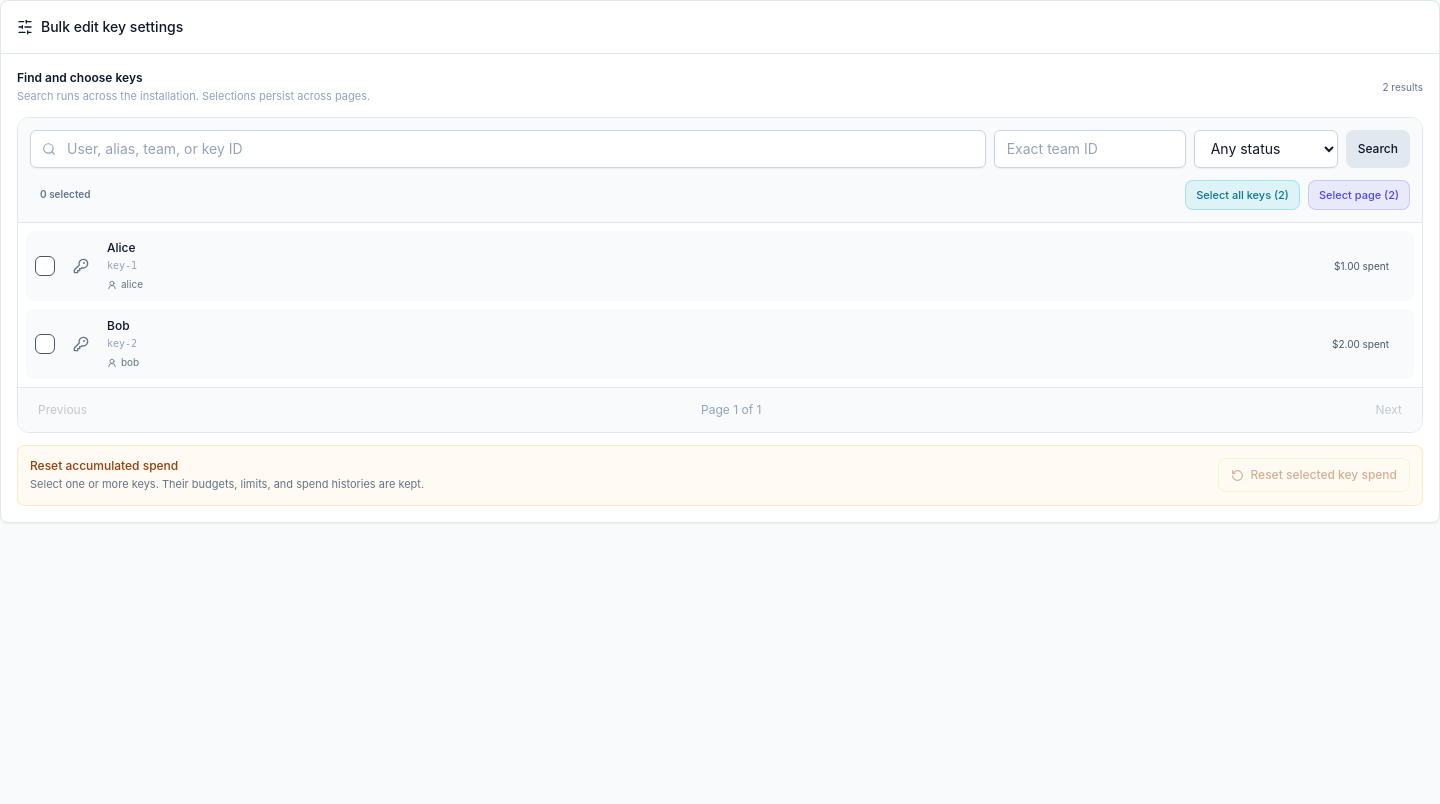
Test: BulkKeyEditor › keeps failed keys selected for retry and export
This screenshot has width=1440, height=804.
Click the button "Select all keys (2)" at (1242, 195), box [1185,180,1300,210]
(page scrolled)
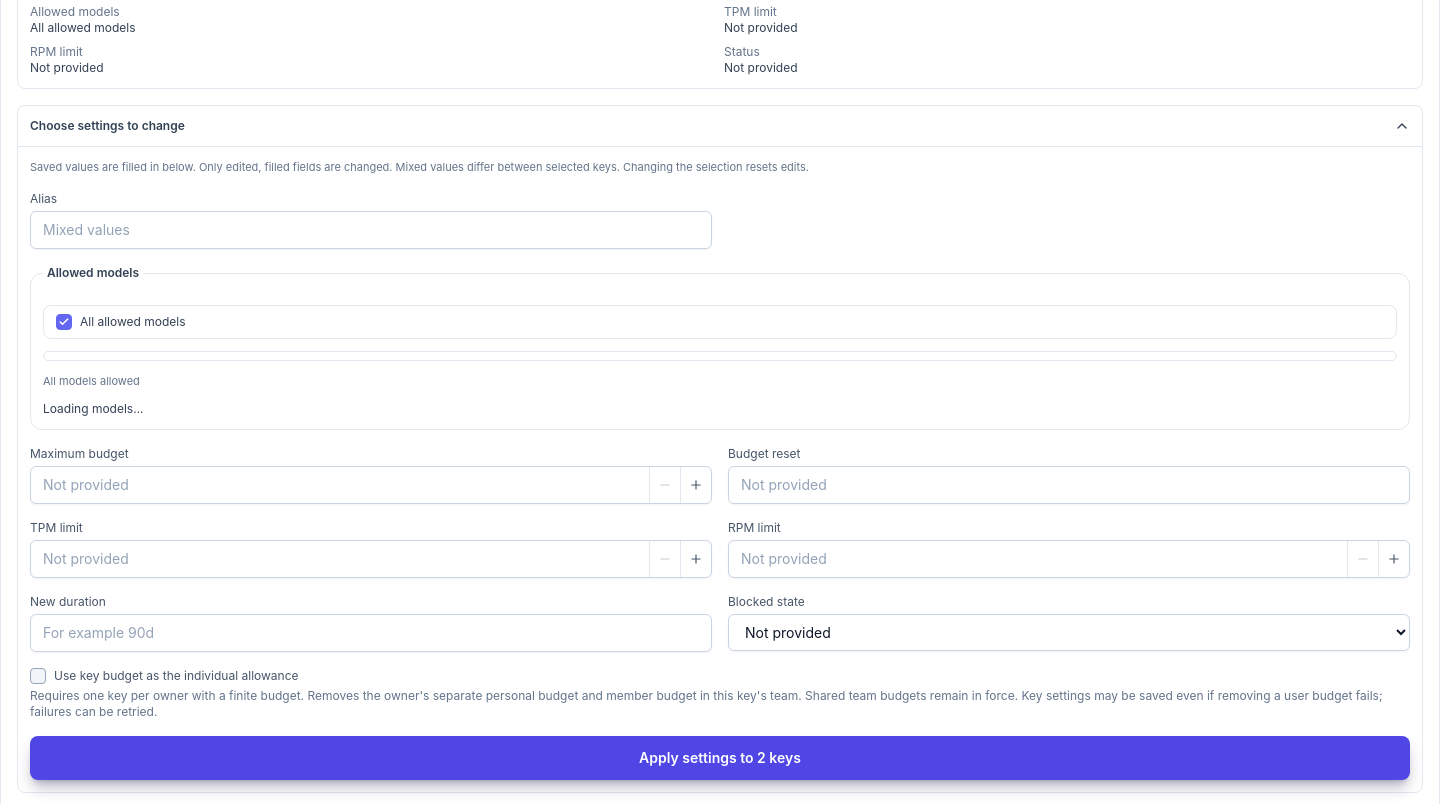
Type "100" into the number field labelled "RPM limit" at (1038, 559), box [729,541,1347,577]
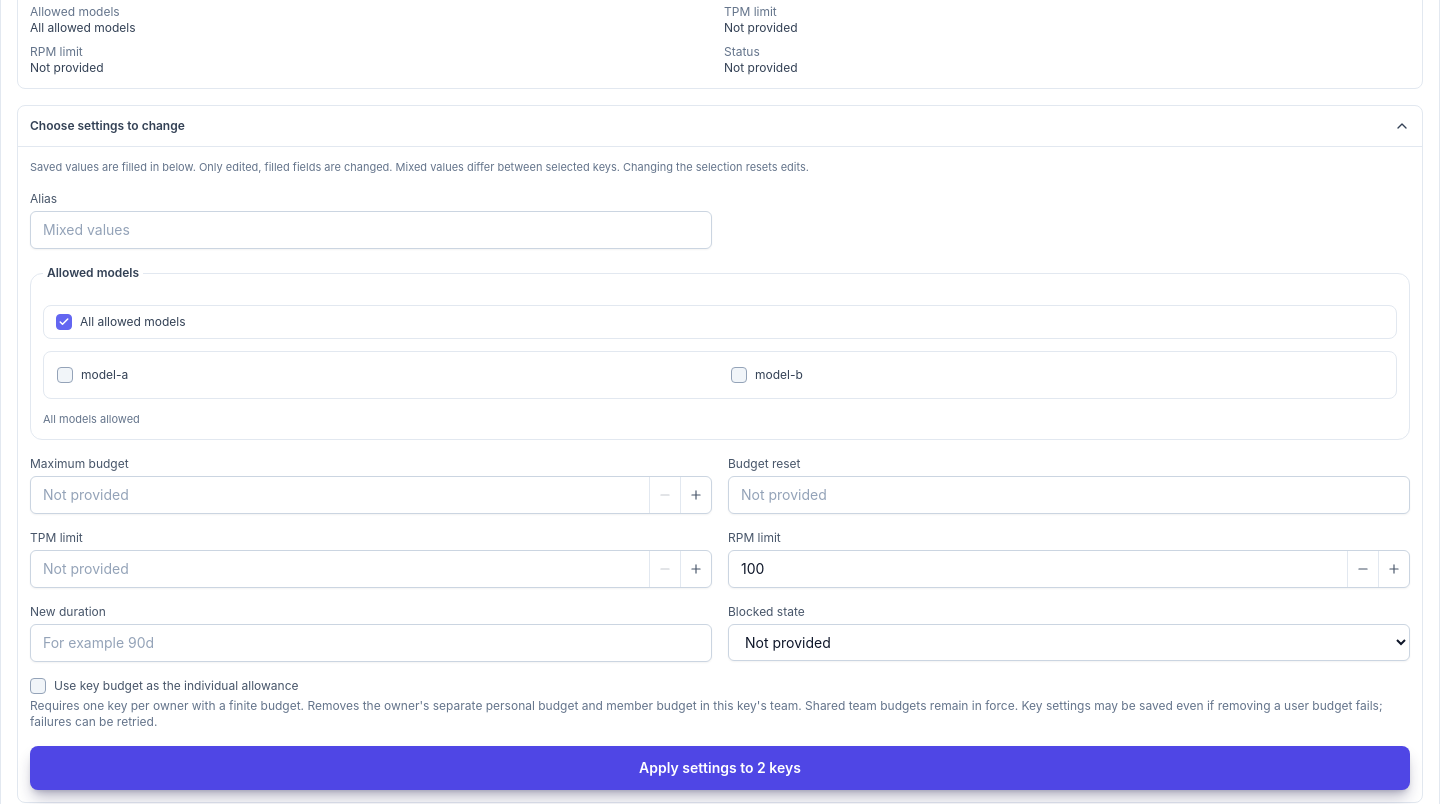
Click the button "Apply settings to 2 keys" at (720, 768), box [30,746,1410,790]
(page scrolled)
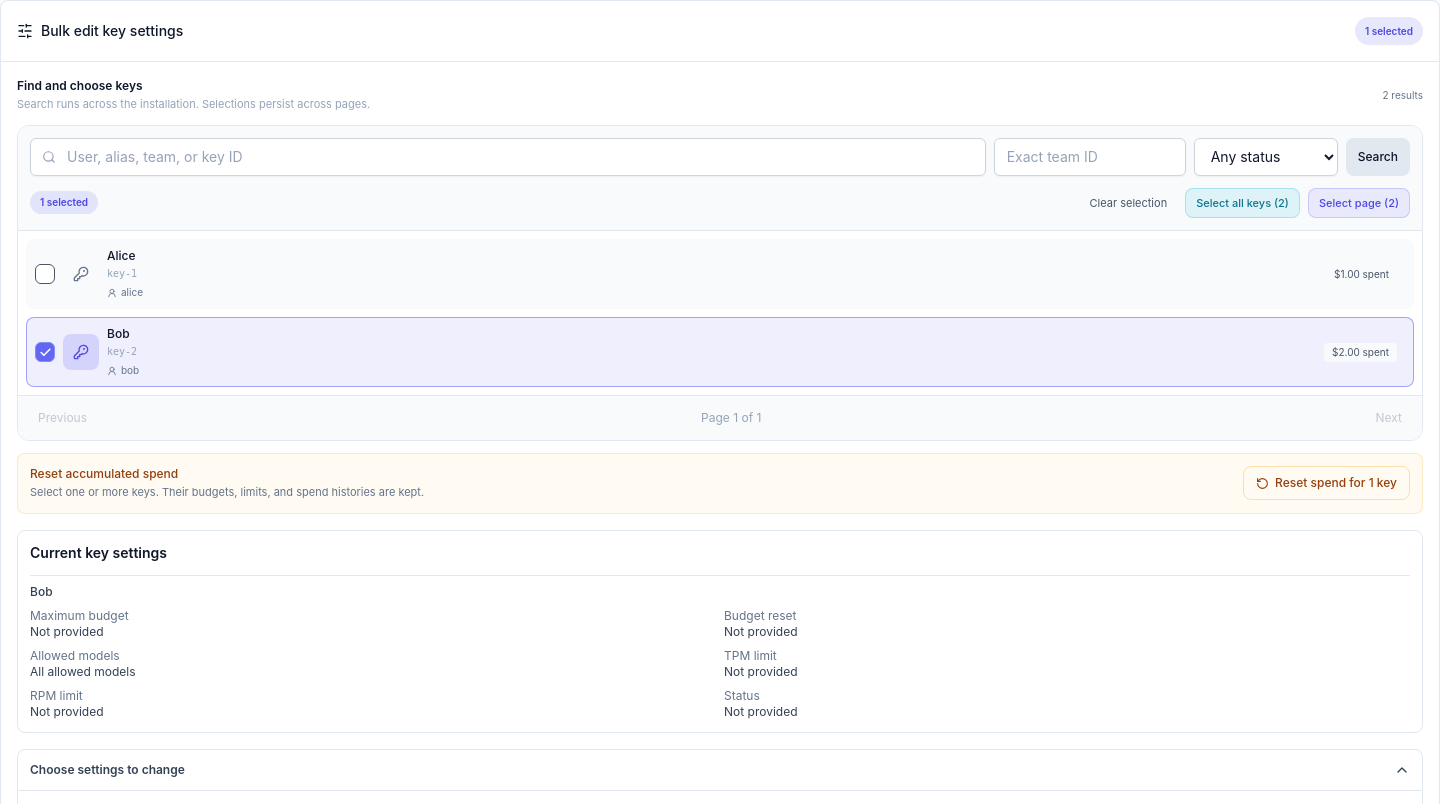
Expected: the text "1 selected" in the row of "Bulk edit key settings" is shown, [1355,17,1423,45]
